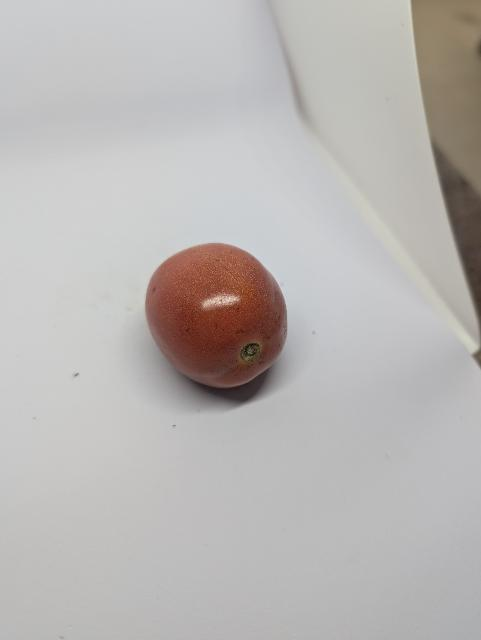red: (141, 241, 293, 395)
